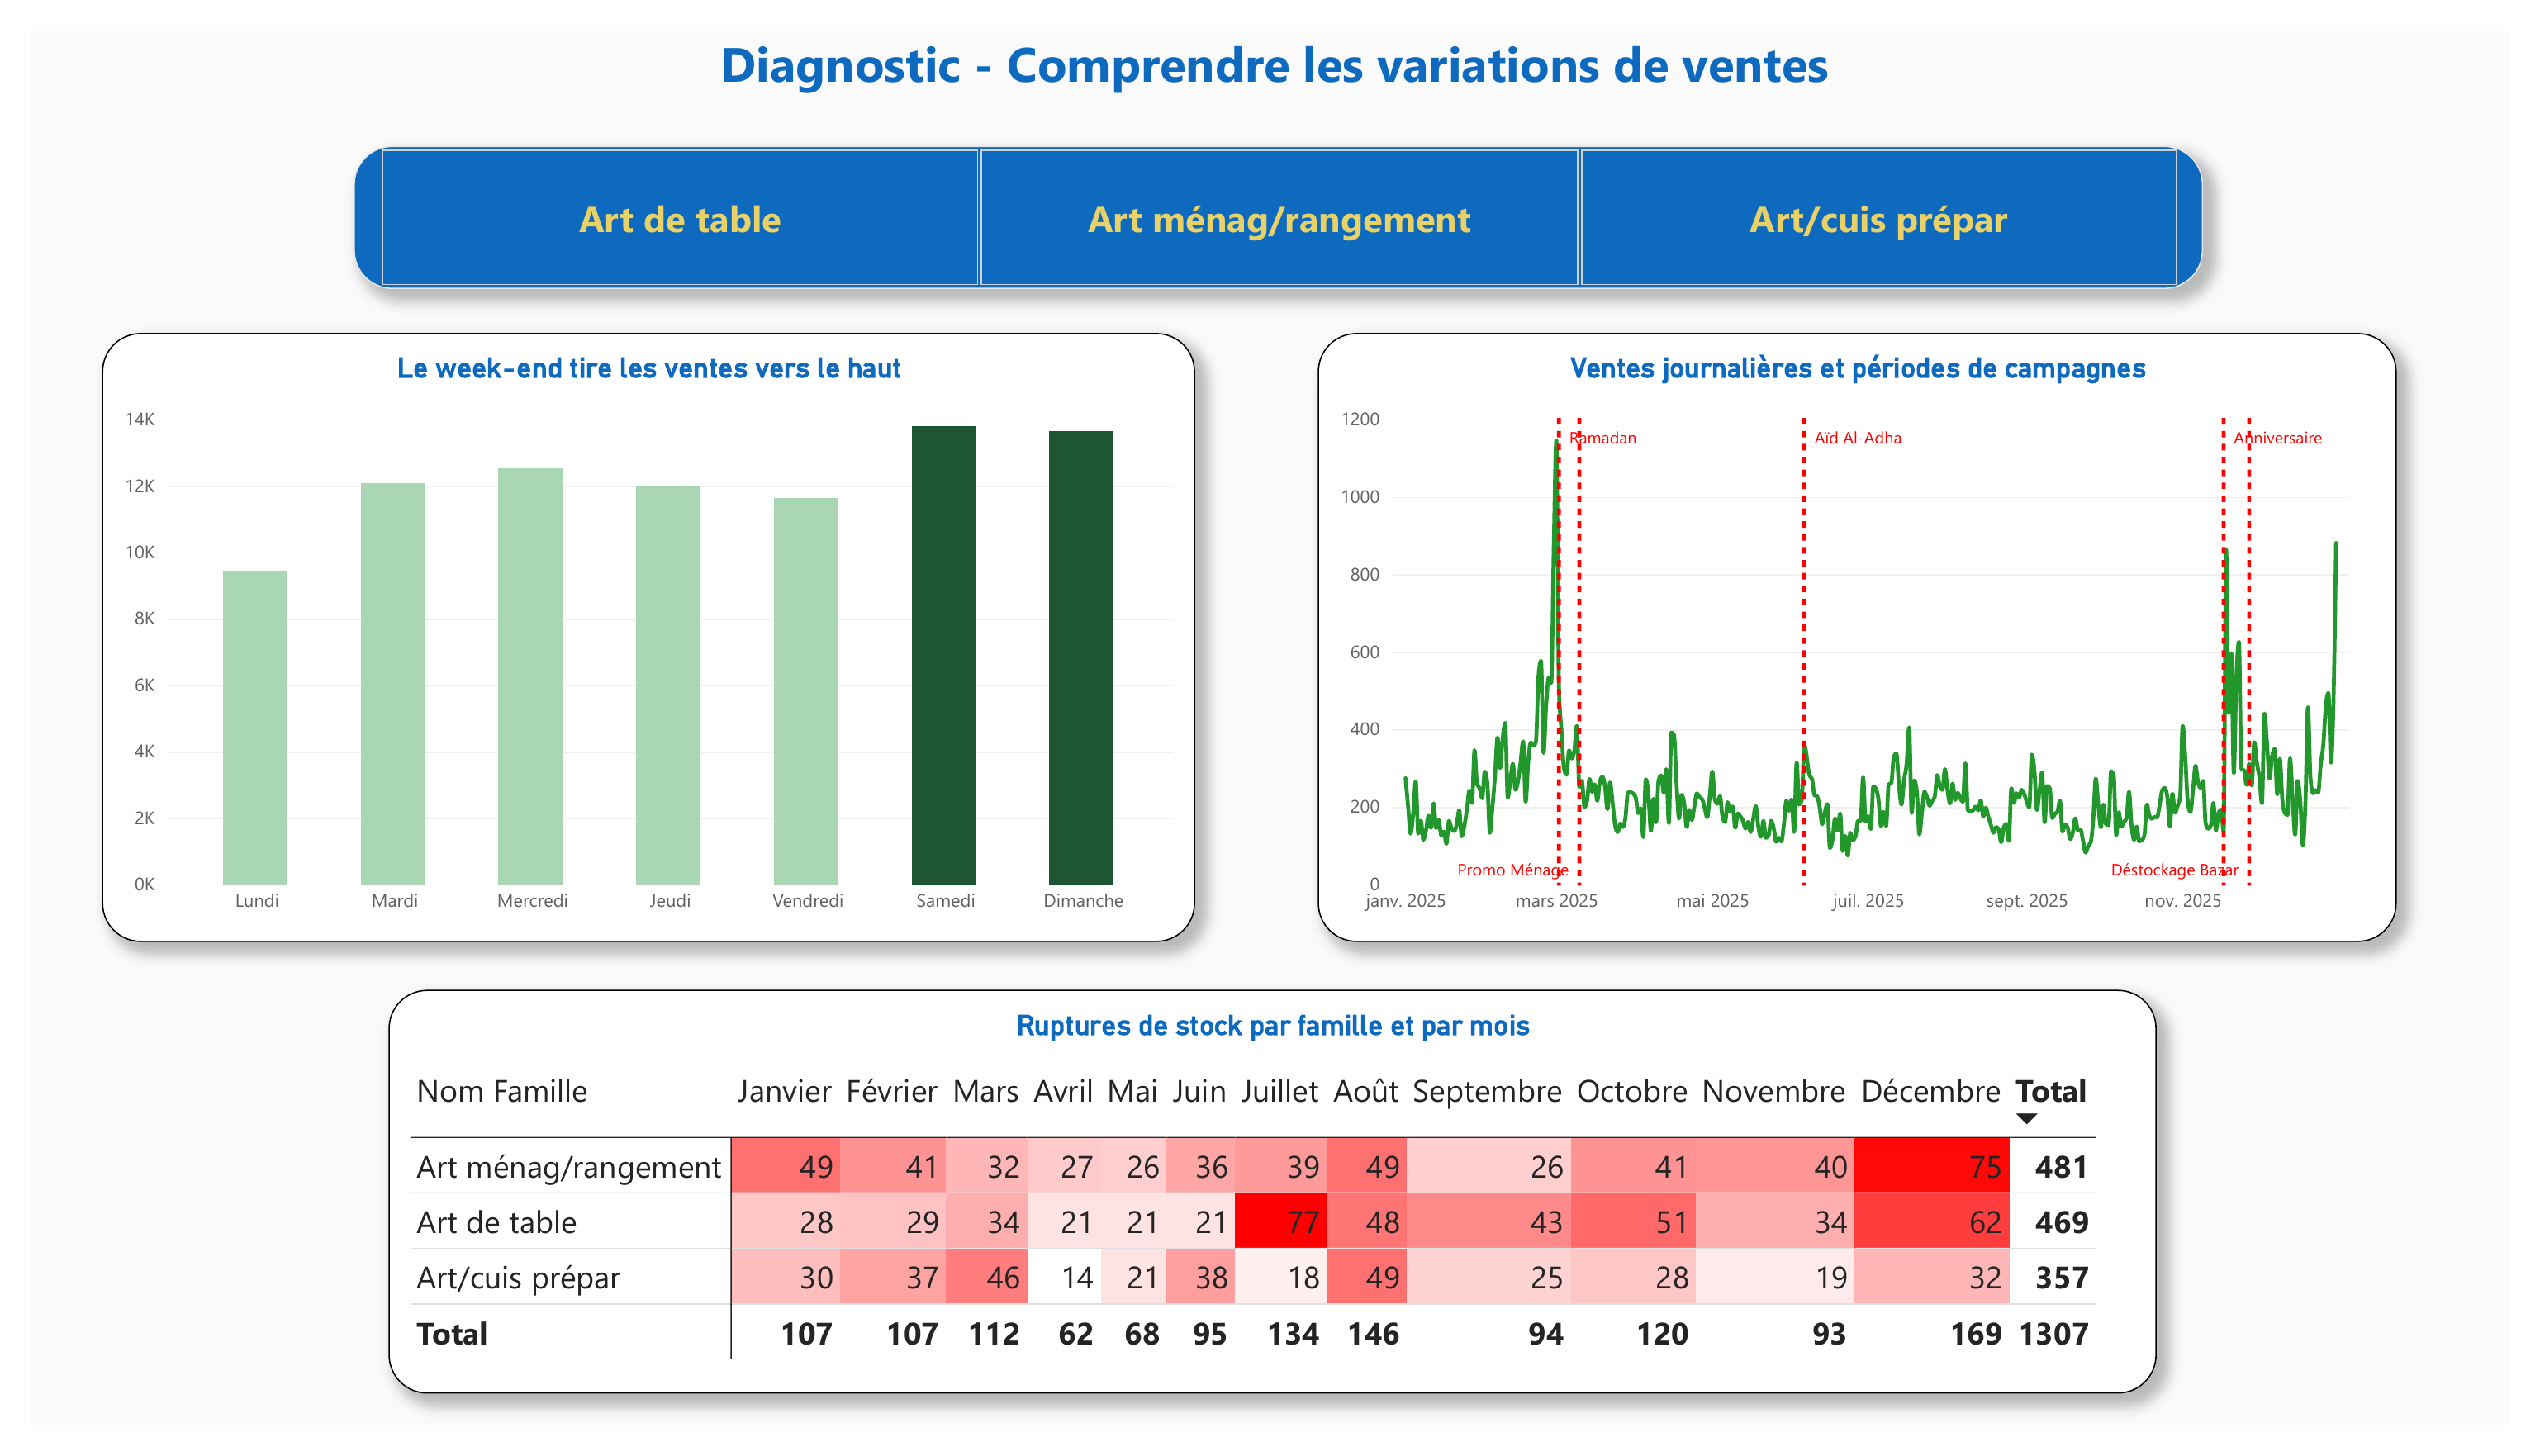

Layout of this report page (visuals, bound fields, positions):
{"tool":"powerbi","page":{"name":"Diagnostic & Saisonnalité","canvas":[1920,1080],"ordinal":1},"visuals":[{"type":"textbox","box":[9.1,0,1910.2,68.1],"z":0},{"type":"clusteredColumnChart","title":"Le week-end tire les ventes vers le haut","fields":{"Category":["ventes_rayon40.Jour Semaine"],"Y":["Sum(ventes_rayon40.Qte vendue)"]},"box":[54.5,233.9,847.2,472.4],"z":1000},{"type":"lineChart","title":"Ventes journalières et périodes de campagnes","fields":{"Category":["ventes_rayon40.date"],"Y":["Sum(ventes_rayon40.Qte vendue)"]},"box":[997.1,233.9,835.8,472.4],"z":2000},{"type":"pivotTable","title":"Ruptures de stock par famille et par mois","fields":{"Columns":["ventes_rayon40.Mois"],"Rows":["ventes_rayon40.Nom Famille"],"Values":["Mesures.Nb Ruptures"]},"box":[277.1,742.7,1369.6,313.4],"z":3000},{"type":"slicer","fields":{"Values":["resultats_test.Nom Famille"]},"box":[249.8,88.6,1433.2,111.3],"z":4000}]}

Visuals, with their boxes on the page's 1920x1080 design canvas (x1, y1, x2, y2). These are canvas units, not pixel positions in the 2540x1456 screenshot, which may show the page scaled, cropped or inside an application window:
textbox: <box>9,0,1919,68</box>
"Le week-end tire les ventes vers le haut" clusteredColumnChart: <box>54,234,902,706</box>
"Ventes journalières et périodes de campagnes" lineChart: <box>997,234,1833,706</box>
"Ruptures de stock par famille et par mois" pivotTable: <box>277,743,1647,1056</box>
slicer - resultats_test.Nom Famille: <box>250,89,1683,200</box>
